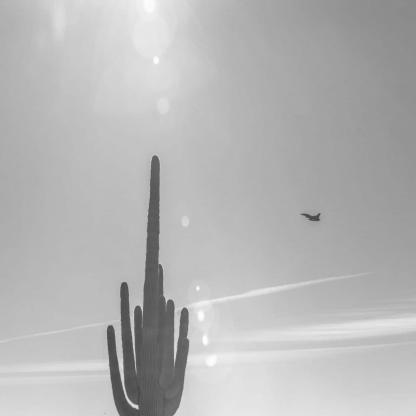F16: (301, 213, 322, 223)
